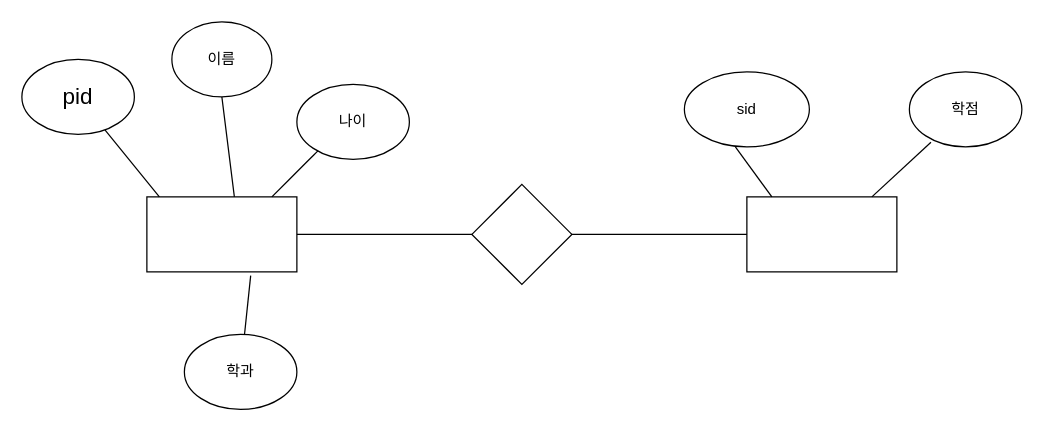
This 1044x431 diagram has some shape labels left out. Each missing label, with the centre of its shape:
"강의" goes at [521,233].
"과목" goes at [821,234].
"교수" goes at [221,234].
